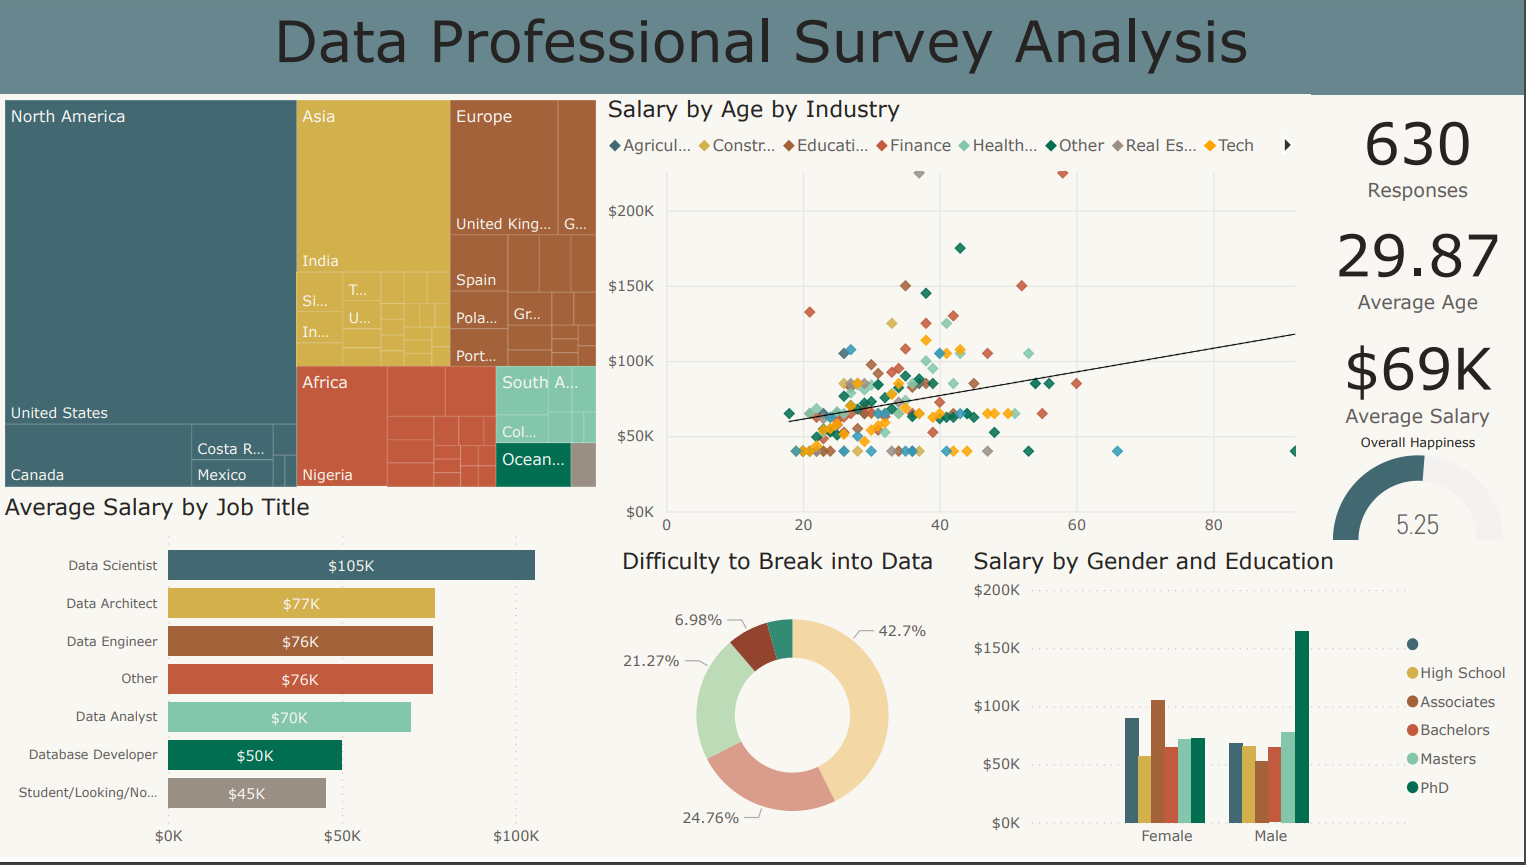

Layout of this report page (visuals, bound fields, positions):
{"tool":"powerbi","page":{"name":"Summary","canvas":[1280,720],"ordinal":0},"visuals":[{"type":"textbox","box":[0,0,1279.8,80.1],"z":0},{"type":"card","fields":{"Values":["CountNonNull(Data Professional Survey.Unique ID)"]},"box":[1101.6,80.8,178.2,94.6],"z":1000},{"type":"card","fields":{"Values":["Avg(Data Professional Survey.Q10 - Current Age)"]},"box":[1101.6,175.4,178.2,94.6],"z":2000},{"type":"barChart","title":"Average Salary by Job Title","fields":{"Category":["Data Professional Survey.Q1 - Which Title Best Fits your Current Role?.1"],"Y":["Avg(Data Professional Survey.Max Salary)"],"Series":["Data Professional Survey.Q1 - Which Title Best Fits your Current Role?.1"]},"box":[0,414.5,517.1,305.9],"z":3000},{"type":"donutChart","title":"Difficulty to Break into Data","fields":{"Category":["Data Professional Survey.Q7 - How difficult was it for you to break into Data?"],"Y":["CountNonNull(Data Professional Survey.Unique ID)"]},"box":[517.5,459,295.6,261.3],"z":4000},{"type":"scatterChart","title":"Salary by Age by Industry","fields":{"X":["Sum(Data Professional Survey.Q10 - Current Age)"],"Y":["Avg(Data Professional Survey.Max Salary)"],"Series":["Data Professional Survey.Q4 - What Industry do you work in?.1"]},"box":[506.5,80.1,595.2,378.7],"z":5000},{"type":"card","fields":{"Values":["Avg(Data Professional Survey.Max Salary)"]},"box":[1101.6,270,178.2,94.6],"z":6000},{"type":"clusteredColumnChart","fields":{"Category":["Data Professional Survey.Q9 - Male/Female?"],"Y":["Avg(Data Professional Survey.Max Salary)"],"Series":["Data Professional Survey.Education"]},"box":[813.1,459,466.6,261.3],"z":7000},{"type":"gauge","fields":{"Y":["Avg(Data Professional Survey.Happiness - Overall)"]},"box":[1101.6,364.7,178.2,93.9],"z":8000},{"type":"treemap","fields":{"Values":["CountNonNull(Data Professional Survey.Unique ID)"],"Group":["list-of-countries-by-continent-.Continent"],"Details":["Data Professional Survey.Country"]},"box":[0,80,506,334],"z":9000}]}

Visuals, with their boxes in screenshot pixels (x1, y1, x2, y2), scaled from the page's 1280x720 canvas onto the 1526x865 screenshot:
textbox: {"left": 0, "top": 0, "right": 1525, "bottom": 96}
card - CountNonNull(Data Professional Survey.Unique ID): {"left": 1313, "top": 97, "right": 1525, "bottom": 211}
card - Avg(Data Professional Survey.Q10 - Current Age): {"left": 1313, "top": 211, "right": 1525, "bottom": 324}
"Average Salary by Job Title" barChart: {"left": 0, "top": 498, "right": 616, "bottom": 864}
"Difficulty to Break into Data" donutChart: {"left": 617, "top": 551, "right": 969, "bottom": 864}
"Salary by Age by Industry" scatterChart: {"left": 604, "top": 96, "right": 1313, "bottom": 551}
card - Avg(Data Professional Survey.Max Salary): {"left": 1313, "top": 324, "right": 1525, "bottom": 438}
clusteredColumnChart - Data Professional Survey.Q9 - Male/Female? x Avg(Data Professional Survey.Max Salary): {"left": 969, "top": 551, "right": 1525, "bottom": 864}
gauge - Avg(Data Professional Survey.Happiness - Overall): {"left": 1313, "top": 438, "right": 1525, "bottom": 551}
treemap - CountNonNull(Data Professional Survey.Unique ID) x list-of-countries-by-continent-.Continent: {"left": 0, "top": 96, "right": 603, "bottom": 497}
